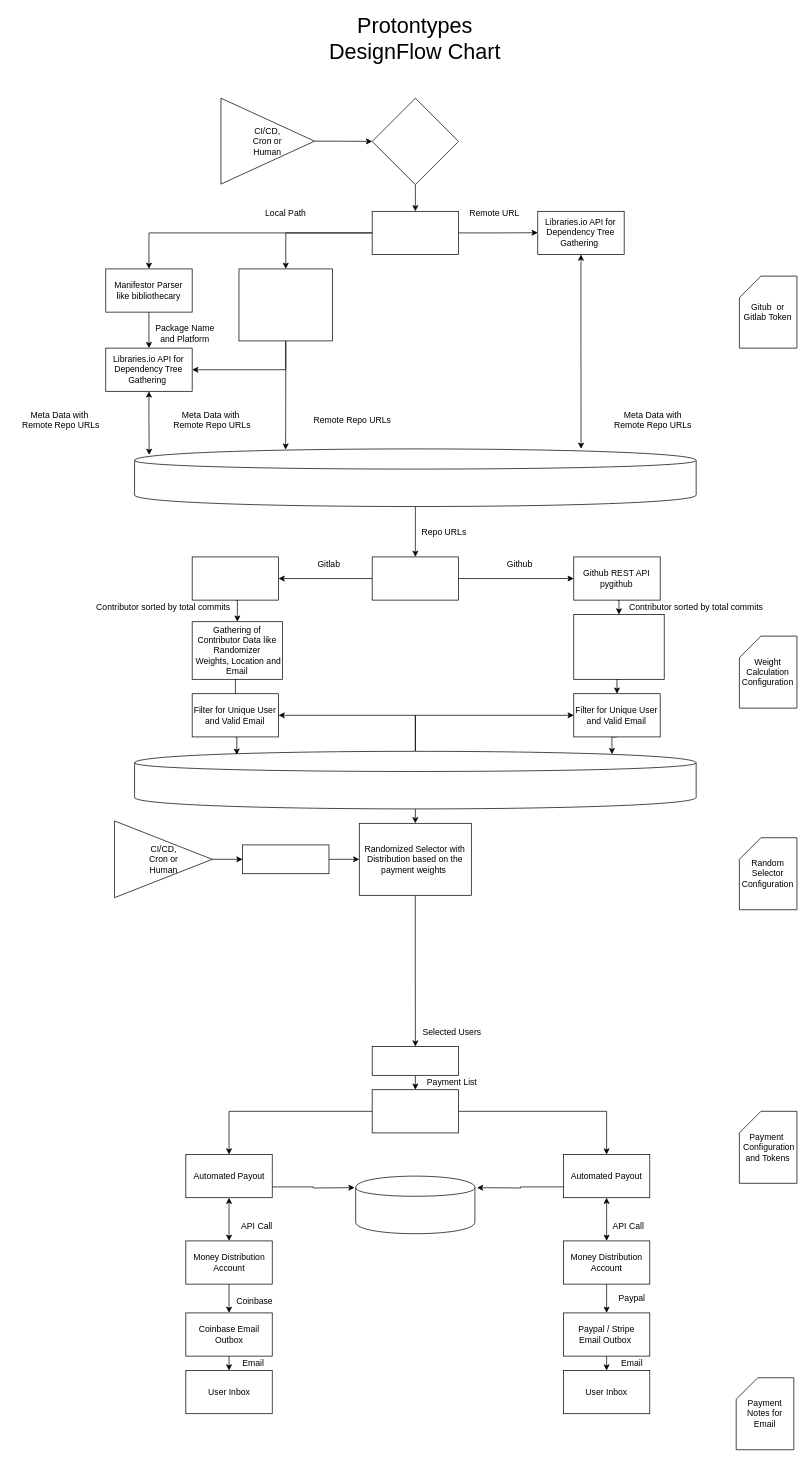
The diagram is 809 pixels wide and 1462 high, and some of its shapes have lost their labels. The centre of each missing label's shape, as x and y in pixels:
Contributor Email, Location and Randomizer Weights: (415,780)
Credit Per User Calculation: (415,1060)
Gathering of Contributor Data like Randomizer Weight, Location and Email: (618,646)
Gitlab REST API python-gitlab: (235,578)
Local Path or Remote Git URL Seperator: (415,233)
Meta Data of all Dependencies and the Root Project: (415,477)
Payment Method Switch: (415,1111)
Payment Trigger: (285,859)
Payout Database: (415,1204)
Recursive Repo URL Detector by Git Remote Entry of Submodules and Subtree: (285,304)
Repository Platform Detection: (415,578)
Target Project(s): (415,141)
